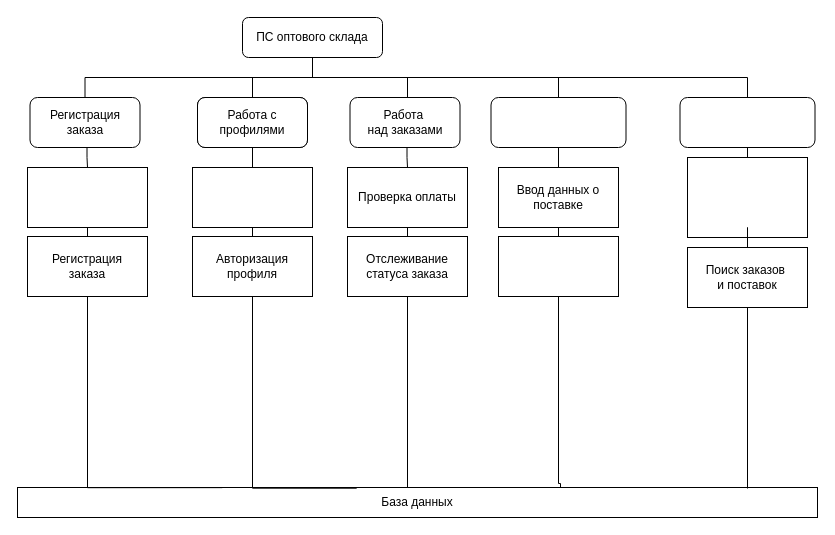
The diagram is 835 pixels wide and 535 high, and some of its shapes have lost their labels. The centre of each missing label's shape, as x and y in pixels:
"Администрирование" belongs at pixel 747 122.
"Ввод данных о заказе" belongs at pixel 87 197.
"Подготовка отчётности" belongs at pixel 747 197.
"Регистрация поставки" belongs at pixel 558 266.
"Регистрация профиля" belongs at pixel 252 197.
"Управление поставками" belongs at pixel 558 122.
